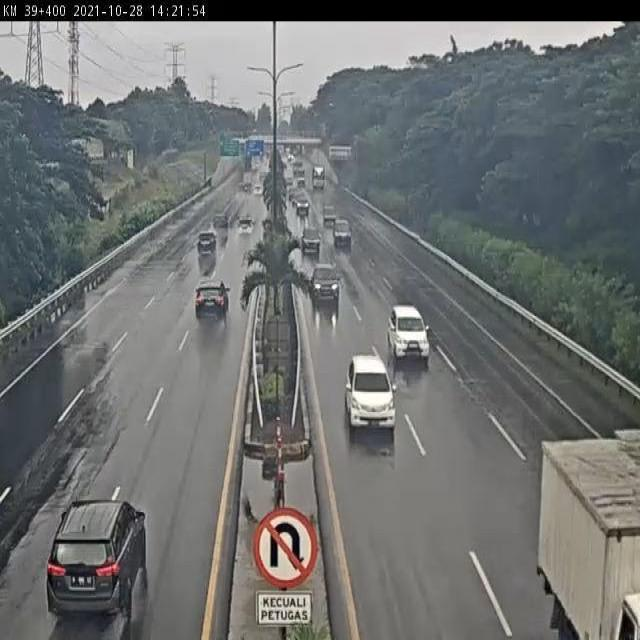car: (44, 500, 151, 619), (347, 355, 397, 429), (388, 304, 432, 359), (193, 276, 232, 325), (310, 267, 342, 305), (299, 223, 321, 256), (334, 216, 351, 249), (198, 229, 218, 255)
